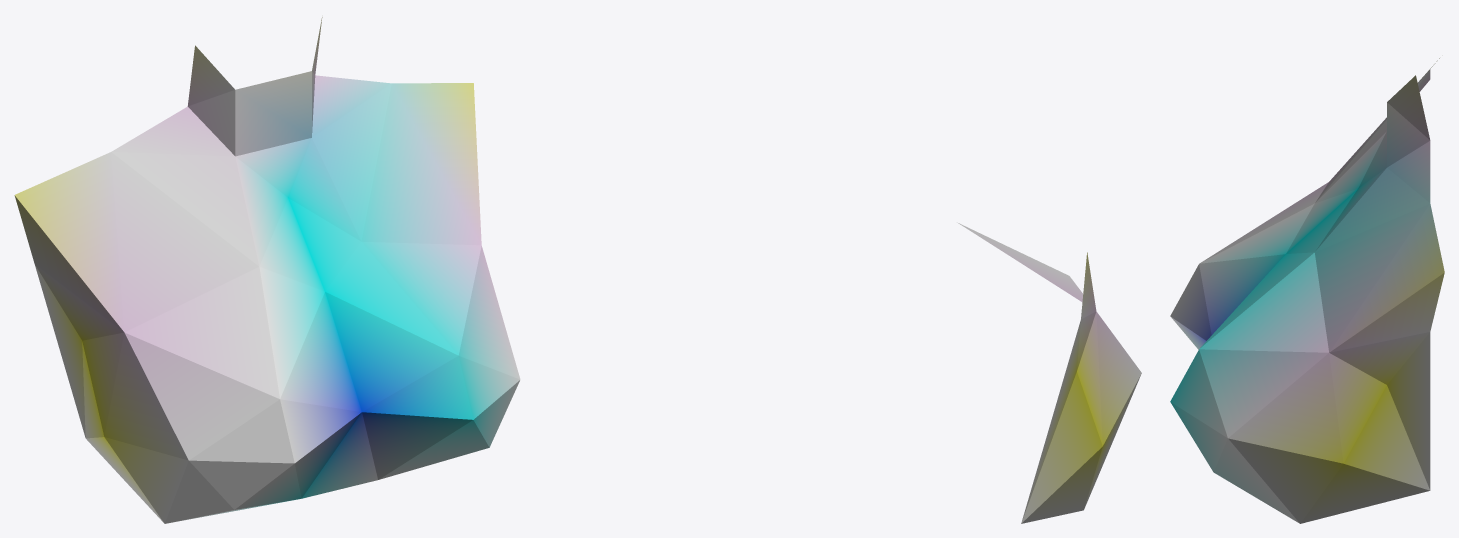
The picture shows the model from 3 angles, left to right: view 1: azimuth 30°, elevation 25°; view 2: azimuth 150°, elevation 25°; view 3: azimuth 270°, elevation 25°; orthographic projection. The views are drawn at different scales.
Parts seen in each view (by area): view 1: model_1195; view 2: model_1195; view 3: model_1195.
Boxes of the visible parts, x1,y1,x2,y2 form: model_1195: (14, 17, 520, 523); model_1195: (957, 222, 1141, 523); model_1195: (1170, 58, 1444, 523).
Bounding box in the file's own units: 36 × 31 × 19.
